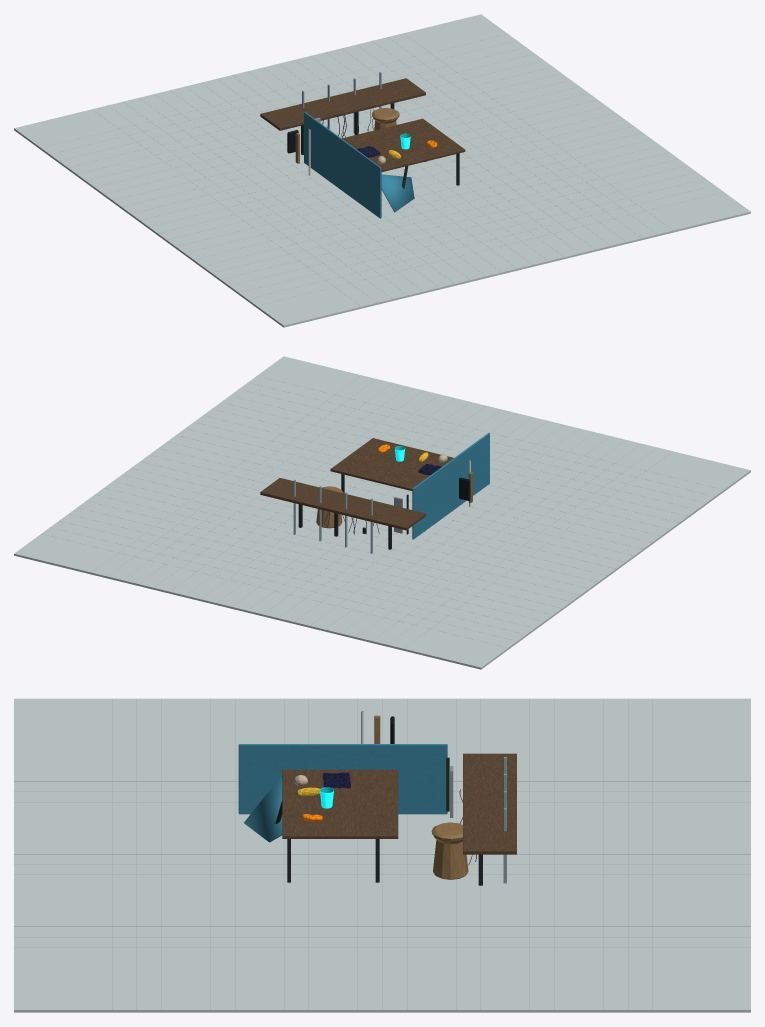
Rendered from codex.glb.
The picture shows the model from 3 angles, top to bottom: view 1: azimuth 30°, elevation 25°; view 2: azimuth 150°, elevation 25°; view 3: azimuth 270°, elevation 25°; orthographic projection. The views are drawn at different scales.
Visible parts, largest first — view 1: Room floor, Blue upholstered side panel, Rear oak desk, Broad oak tabletop, Blue fabric panel below the near table edge; view 2: Room floor, Blue upholstered side panel, Rear oak desk, Broad oak tabletop; view 3: Room floor, Blue upholstered side panel, Broad oak tabletop, Rear oak desk, Faceted wooden stool, Blue fabric panel below the near table edge, Floor tile joint.017, Floor tile joint.018, Floor tile joint.019, Floor tile joint.012, Floor tile joint.011, Floor tile joint.010.
Boxes of the visible parts, <box> form: Room floor: <box>14,14,750,327</box>; Blue upholstered side panel: <box>304,112,381,218</box>; Rear oak desk: <box>260,78,425,130</box>; Broad oak tabletop: <box>342,118,465,171</box>; Blue fabric panel below the near table edge: <box>381,174,414,212</box>; Room floor: <box>14,356,750,669</box>; Blue upholstered side panel: <box>412,433,489,539</box>; Rear oak desk: <box>260,478,425,530</box>; Broad oak tabletop: <box>330,438,453,490</box>; Room floor: <box>14,698,750,1012</box>; Blue upholstered side panel: <box>238,744,447,814</box>; Broad oak tabletop: <box>282,769,398,838</box>; Rear oak desk: <box>463,753,516,854</box>; Faceted wooden stool: <box>431,822,468,879</box>; Blue fabric panel below the near table edge: <box>244,776,282,842</box>; Floor tile joint.017: <box>14,926,750,926</box>; Floor tile joint.018: <box>14,937,750,937</box>; Floor tile joint.019: <box>14,947,750,947</box>; Floor tile joint.012: <box>14,874,750,874</box>; Floor tile joint.011: <box>14,864,750,864</box>; Floor tile joint.010: <box>14,854,750,854</box>.
Bounding box in the file's own units: 30 × 4.13 × 30.
Materials: 27 (7 with a texture image).
